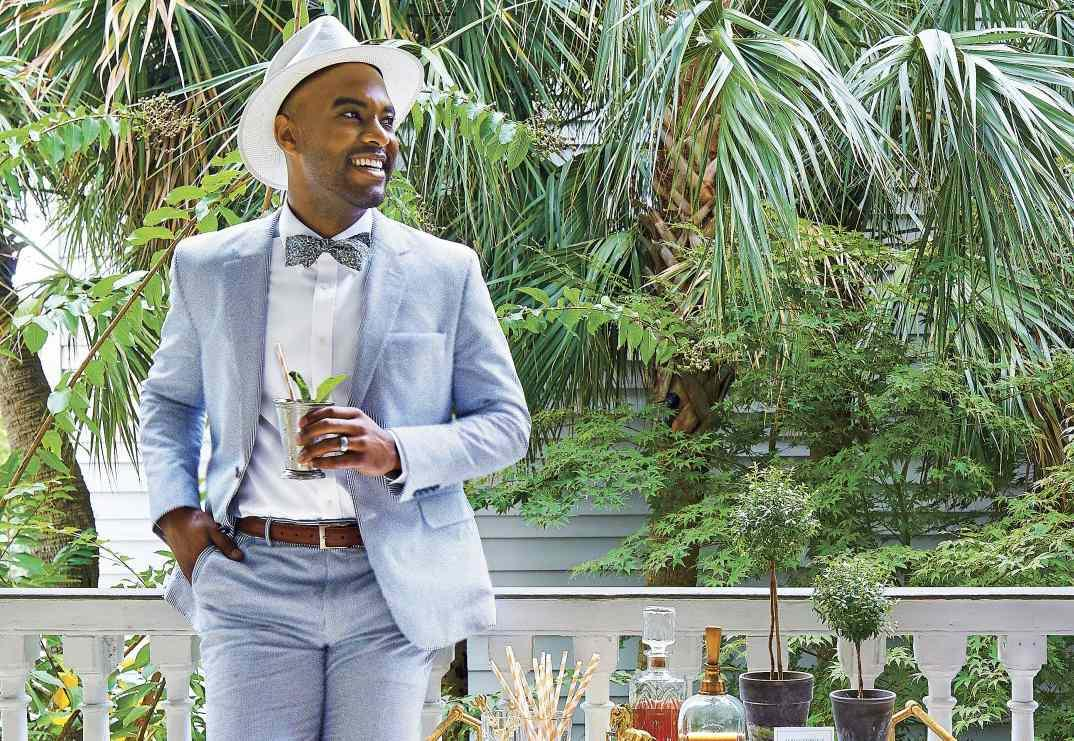cap: (230, 6, 430, 196)
